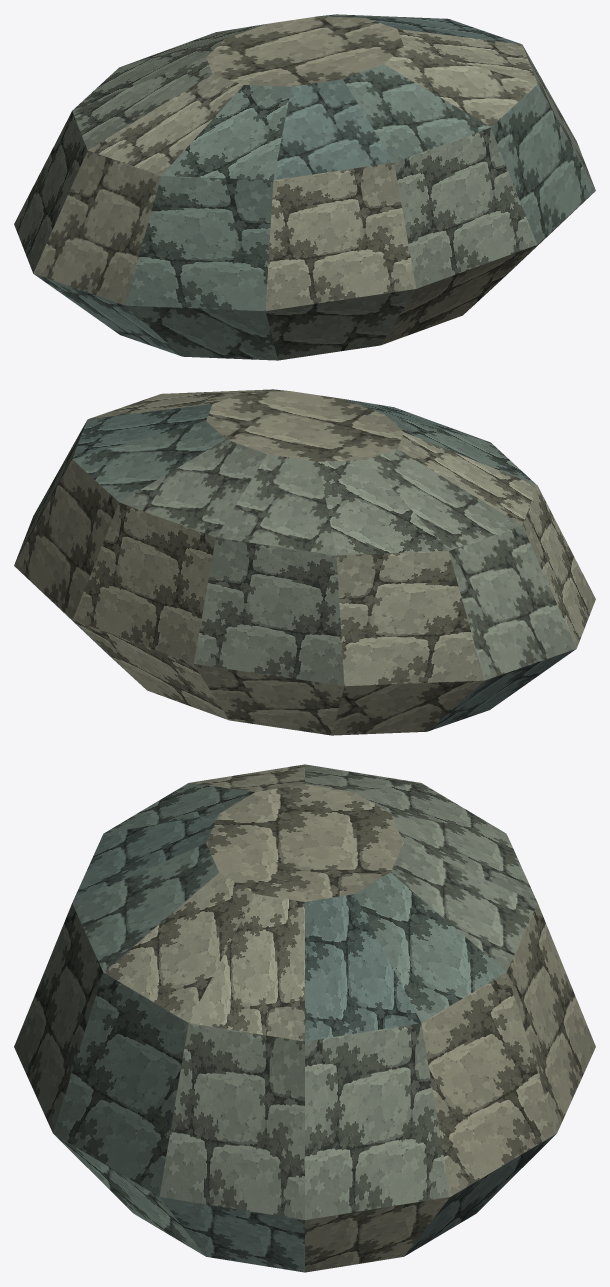
Rendered from river_stone.glb.
3 views of the same model, one above another, from view 1: azimuth 30°, elevation 25°; view 2: azimuth 150°, elevation 25°; view 3: azimuth 270°, elevation 25° (orthographic). The views are drawn at different scales.
Parts seen in each view (by area): view 1: river_stone; view 2: river_stone; view 3: river_stone.
Boxes of the visible parts, x1,y1,x2,y2 form: river_stone: (14,14,595,360); river_stone: (14,389,595,735); river_stone: (14,764,595,1272).
Size of the model in its own units: 0.62 by 0.26 by 0.44.
Materials: 1 (1 with a texture image).
